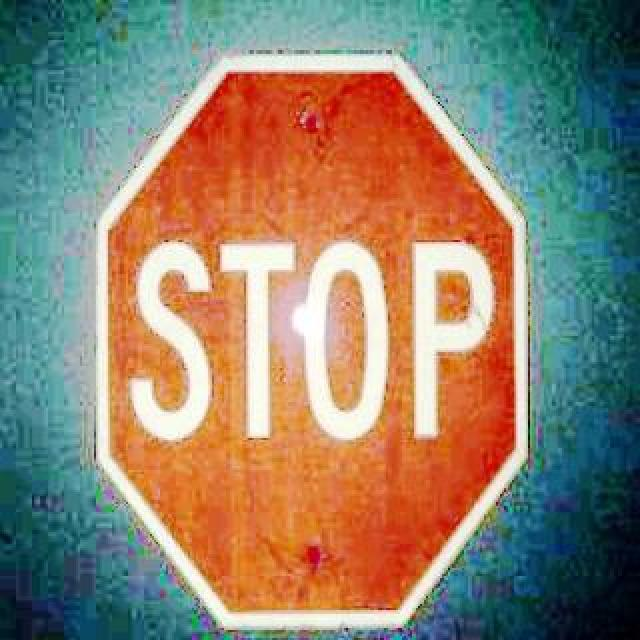stop: (88, 50, 526, 630)
